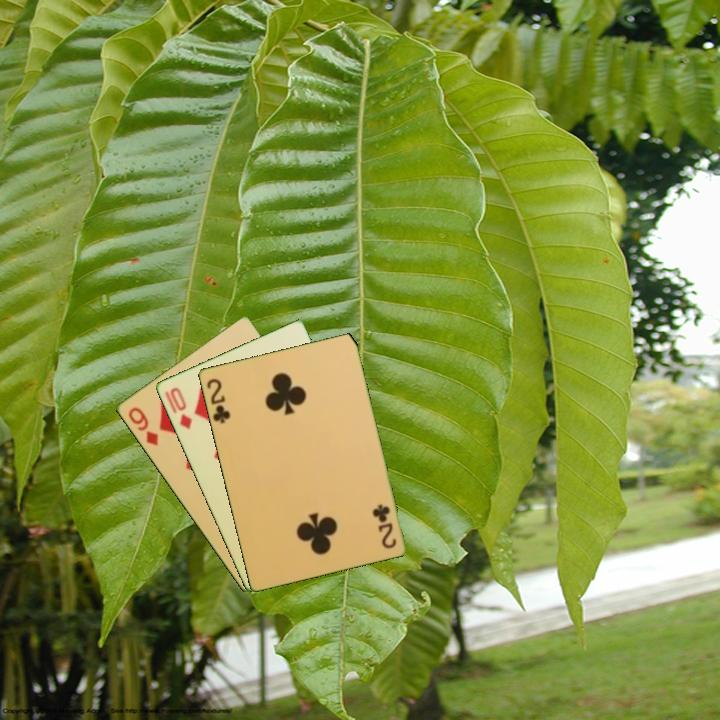10d: (161, 384, 195, 432)
2c: (203, 375, 233, 426), (370, 500, 399, 551)
9d: (124, 403, 161, 449)
